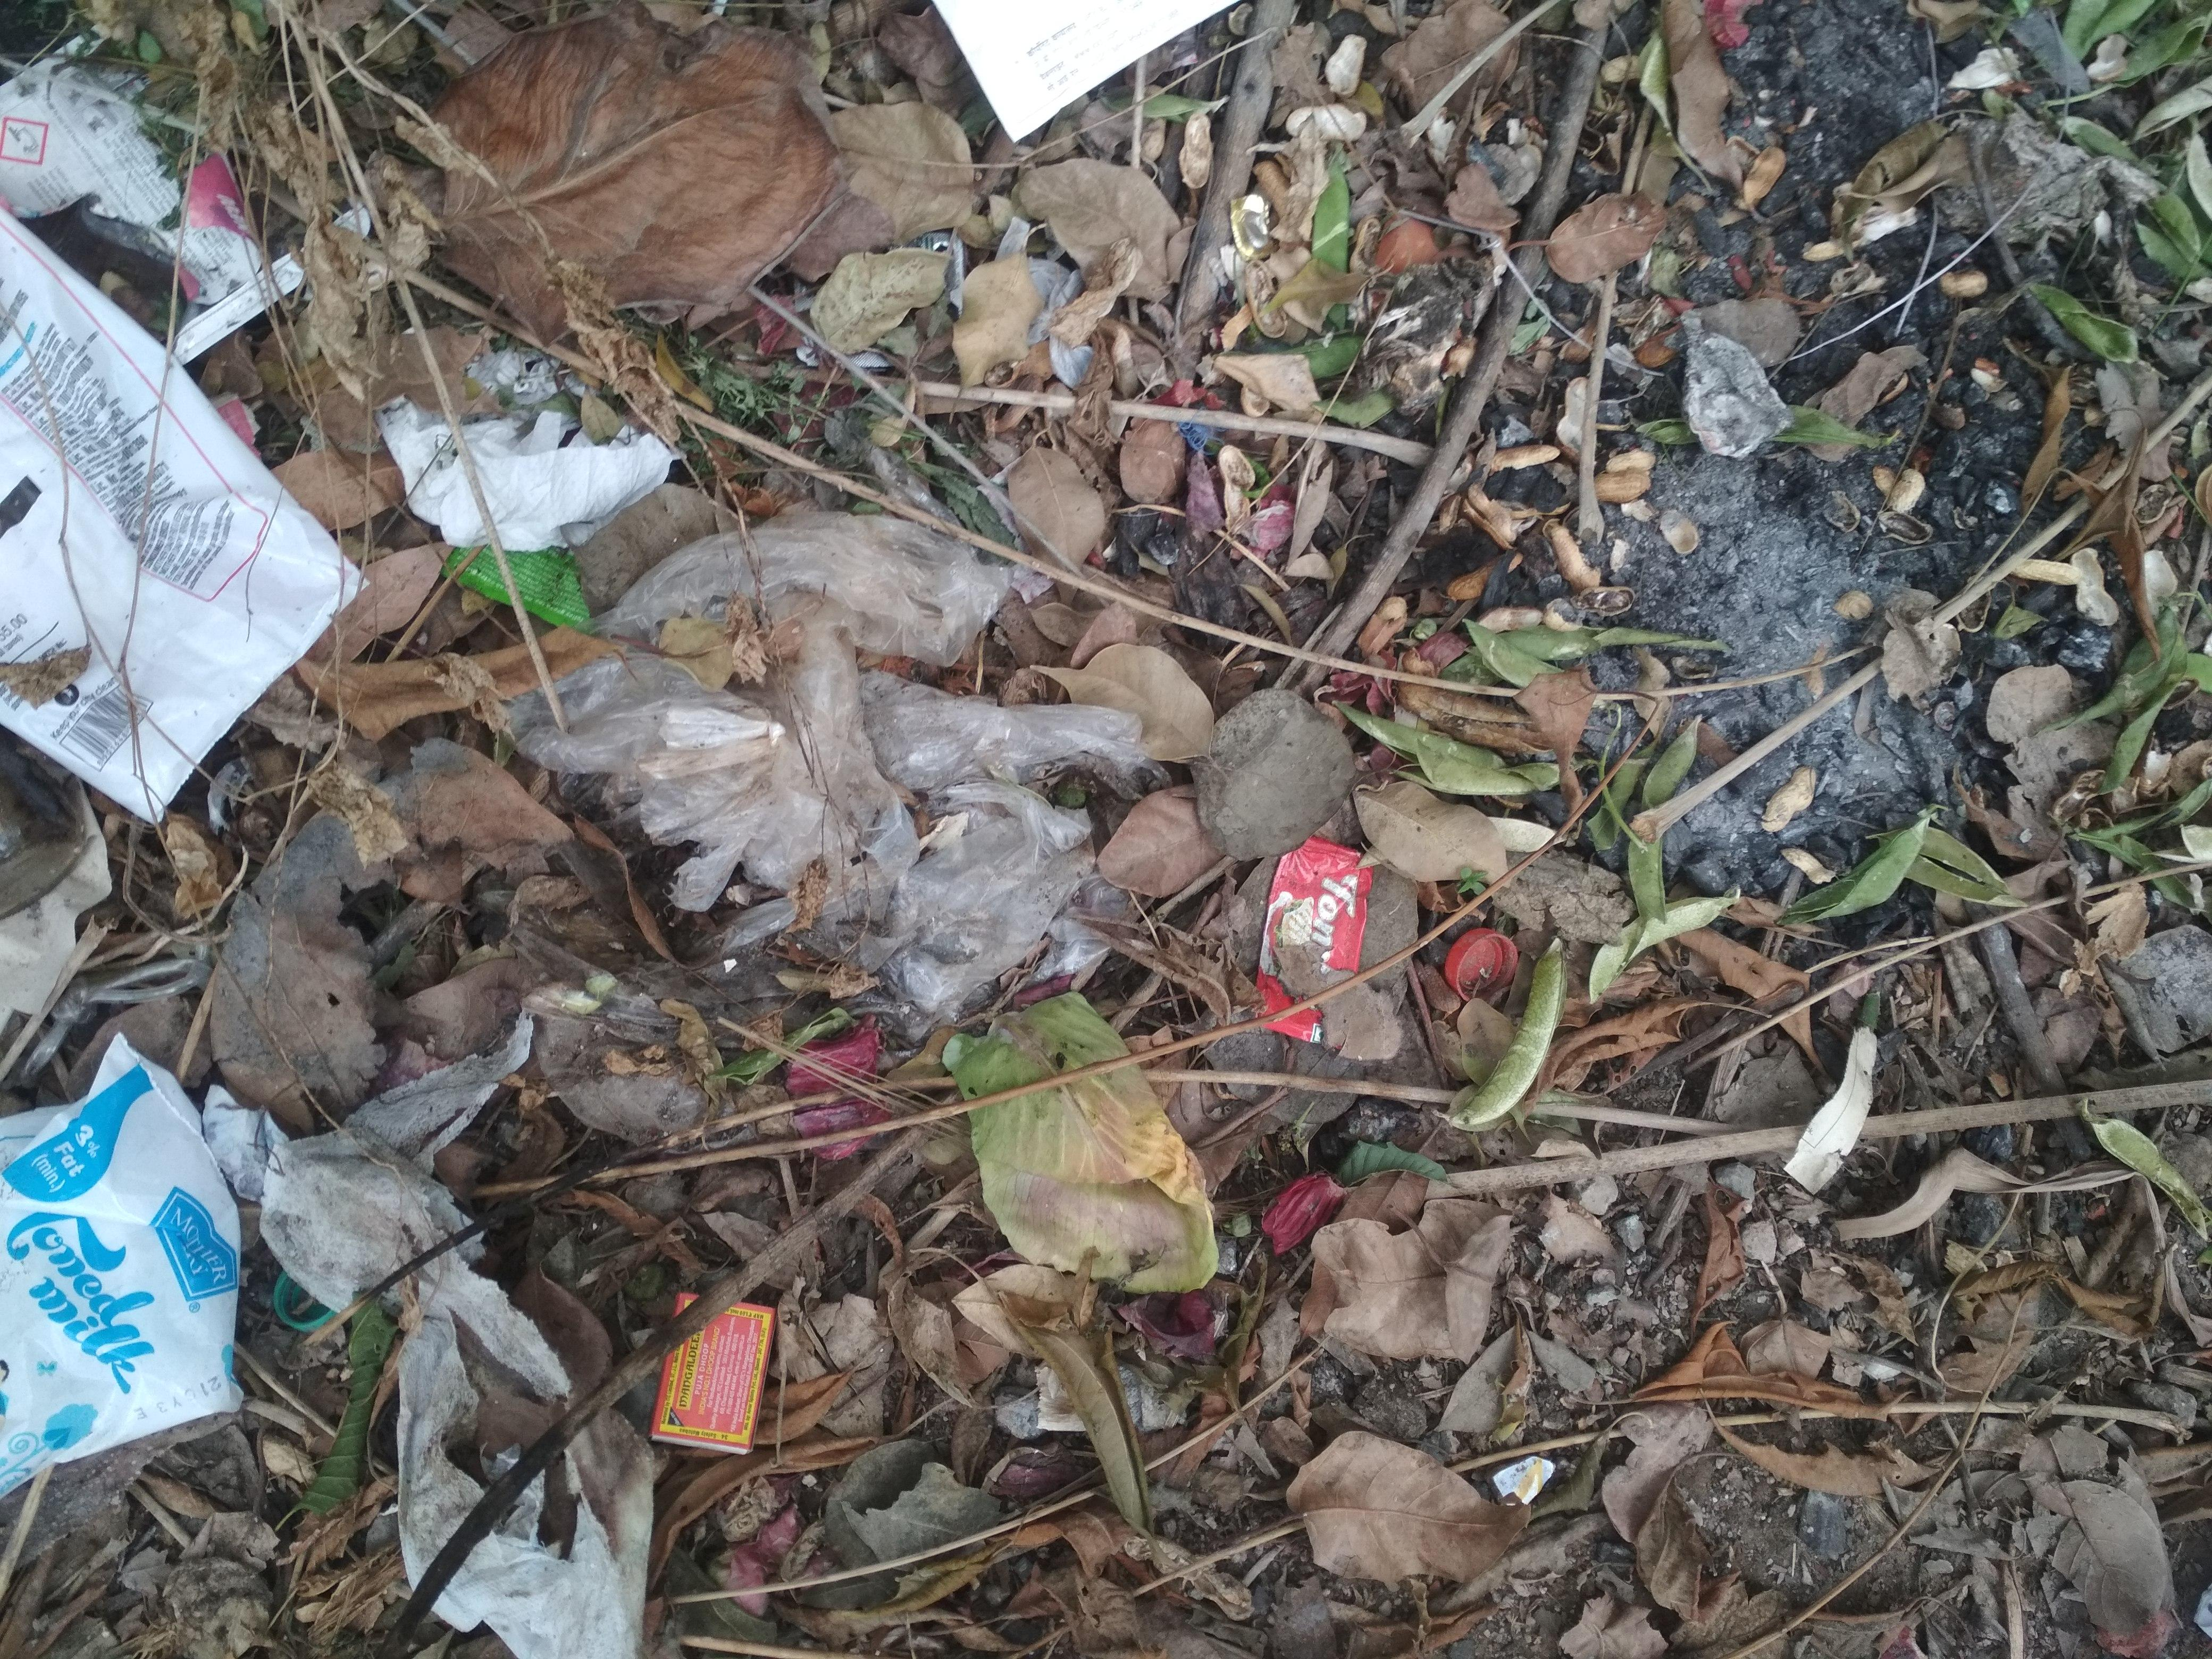trash: (0, 3, 1898, 1652)
